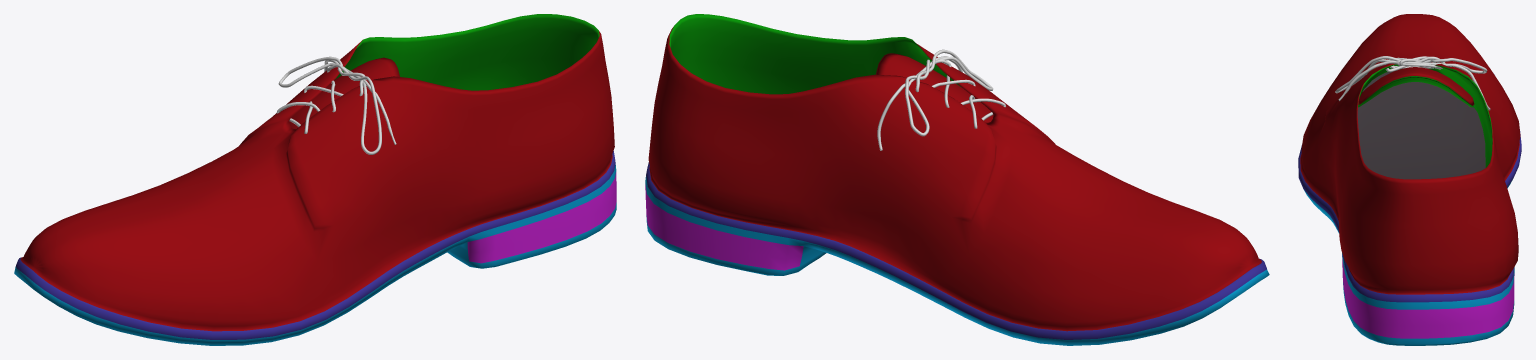
File: shoe.fbx
The picture shows the model from 3 angles, left to right: view 1: azimuth 30°, elevation 25°; view 2: azimuth 150°, elevation 25°; view 3: azimuth 270°, elevation 25°; orthographic projection. The views are drawn at different scales.
Parts seen in each view (by area): view 1: shoe; view 2: shoe; view 3: shoe.
Part boxes in pixels (x1,y1,x2,y2): shoe: (14,14,616,345); shoe: (645,14,1269,345); shoe: (1298,14,1521,345).
Size of the model in its own units: 452 by 146 by 162.
